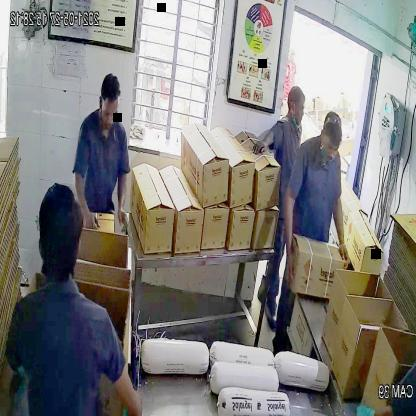no_goggles: (323, 139, 342, 155), (100, 108, 120, 121)
